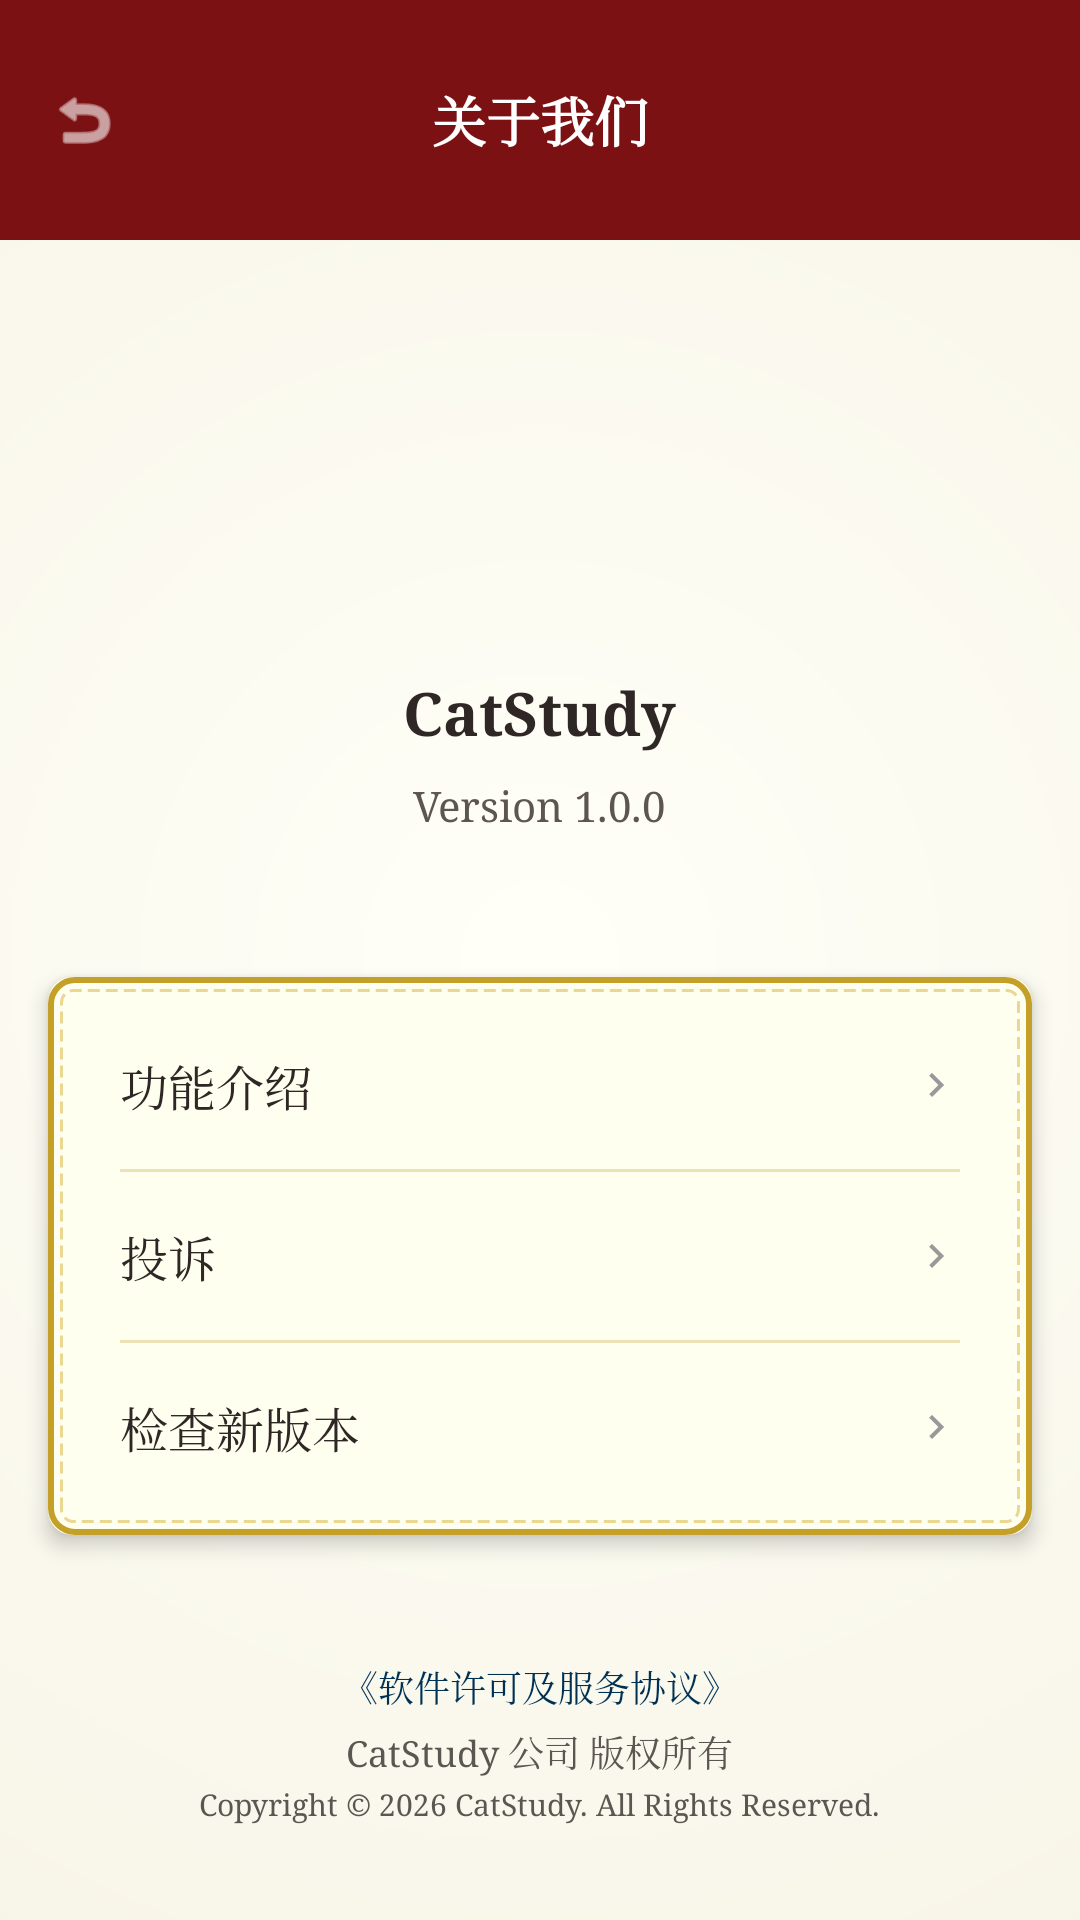

Icons on this 1080w x 1920h Android screen, each with its box as {"left": x1, "top": y1, "right": x2, "bottom": y2}:
arrow right: {"left": 929, "top": 1073, "right": 944, "bottom": 1097}, {"left": 929, "top": 1244, "right": 944, "bottom": 1268}, {"left": 929, "top": 1415, "right": 944, "bottom": 1439}
revert: {"left": 59, "top": 97, "right": 111, "bottom": 144}
